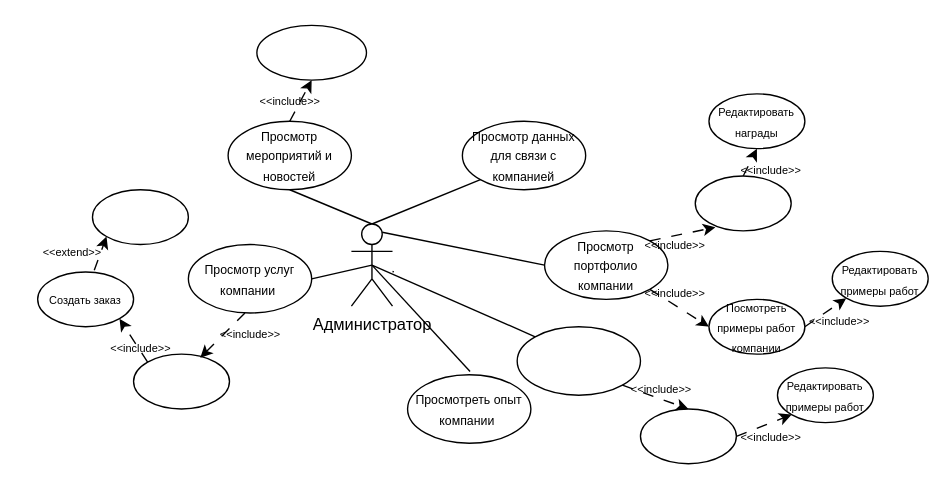
Some shapes in this 952 by 489 pixel diagram are drawn without their labels. Here are the shapes that lost their labels. From the top down, the centre of each, then its label:
pixel 311 52: Редактировать мероприятия и новости
pixel 139 216: Заполнить форму для заказа
pixel 742 203: Посмотреть награды компании
pixel 578 360: Просмотр информацию о компании
pixel 180 381: Посмотреть разработку сайтов
pixel 687 436: Посмотреть сотрудников компании
